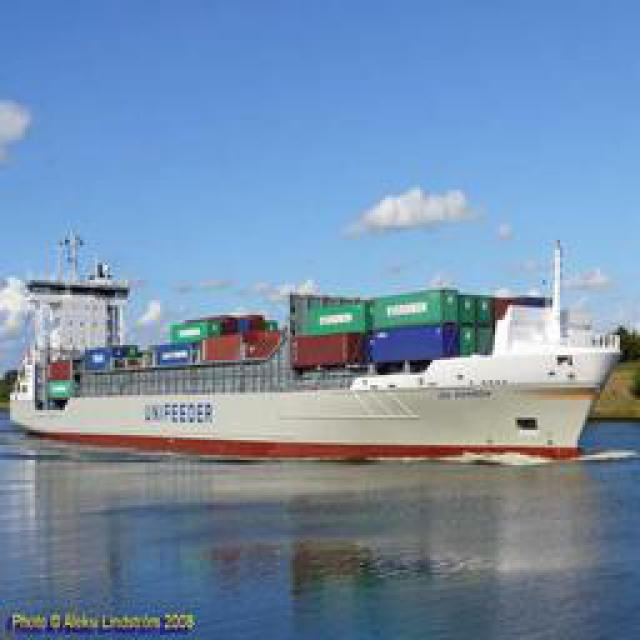Ship: (14, 261, 629, 469)
